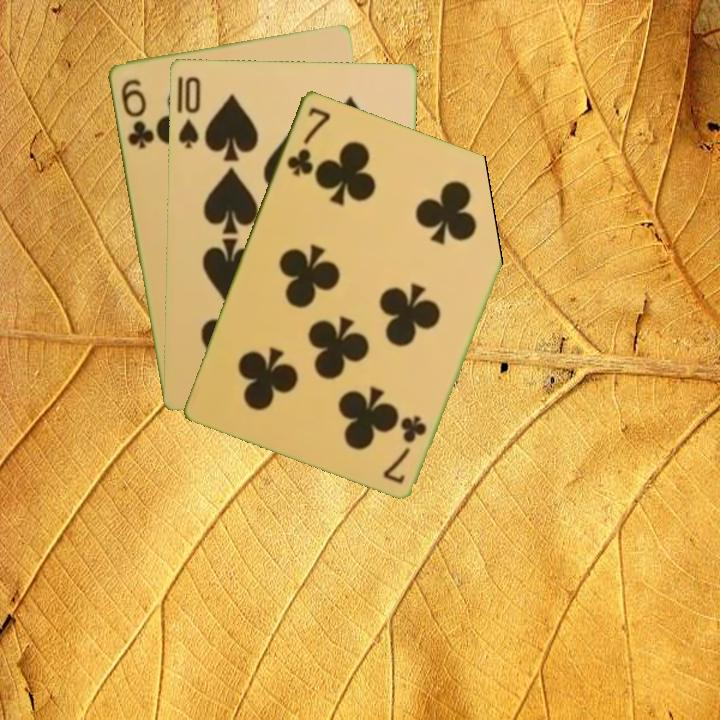10s: (175, 73, 203, 151)
6c: (117, 75, 155, 151)
7c: (283, 103, 334, 179), (381, 411, 430, 486)
